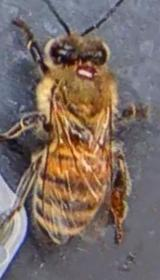varroa_mite: (72, 56, 102, 84)
